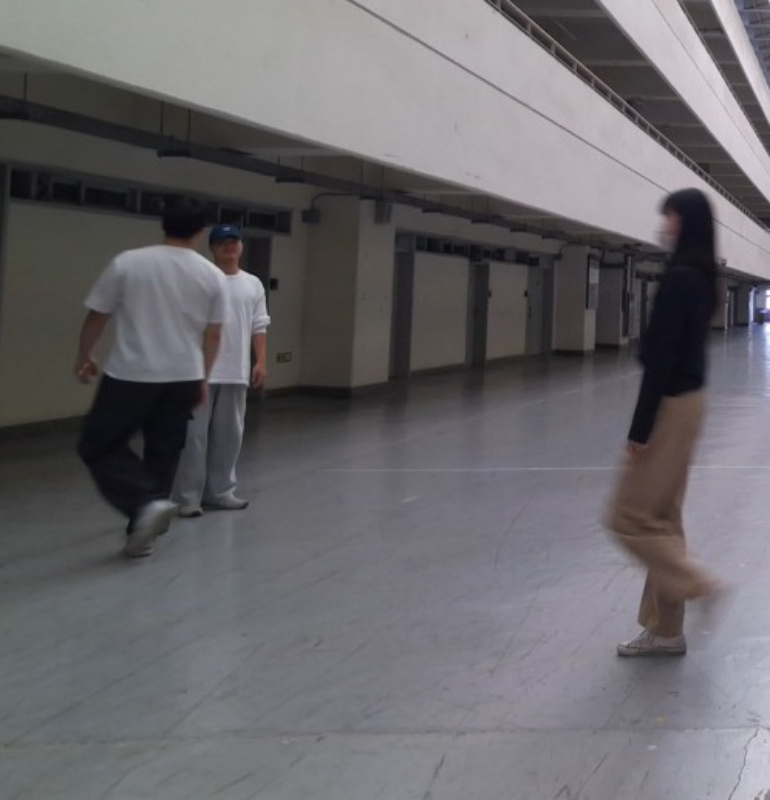person: (601, 187, 754, 657)
